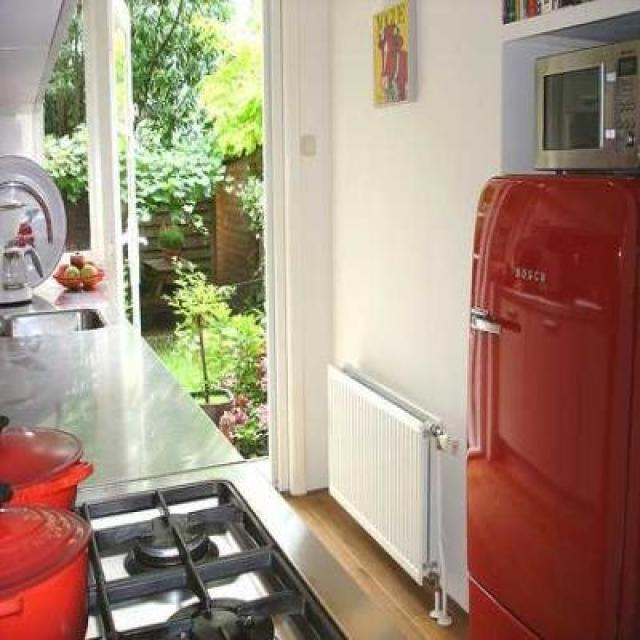refrigerator: (469, 175, 640, 640)
